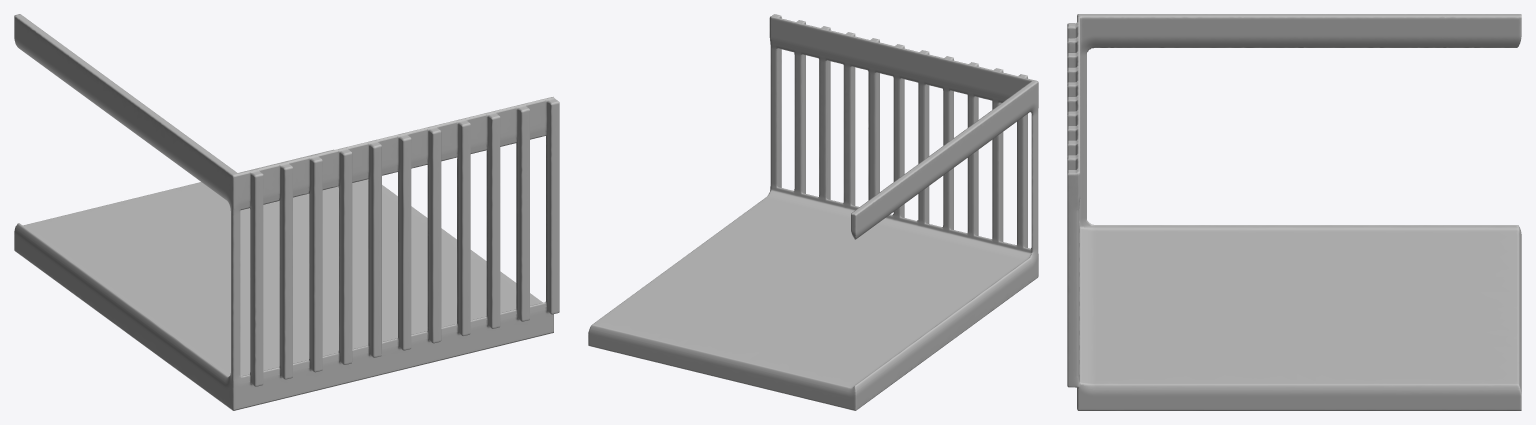
3 renders of one model, left to right at view 1: azimuth 30°, elevation 25°; view 2: azimuth 150°, elevation 25°; view 3: azimuth 270°, elevation 25°, orthographic. The views are drawn at different scales.
Parts seen in each view (by area): view 1: base; view 2: base; view 3: base.
Part boxes in pixels (x1,y1,x2,y2): base: (14, 14, 559, 410); base: (588, 14, 1038, 410); base: (1067, 14, 1521, 410).
Size of the model in its own units: 158 by 111 by 191.
Materials: 1 (1 with a texture image).
